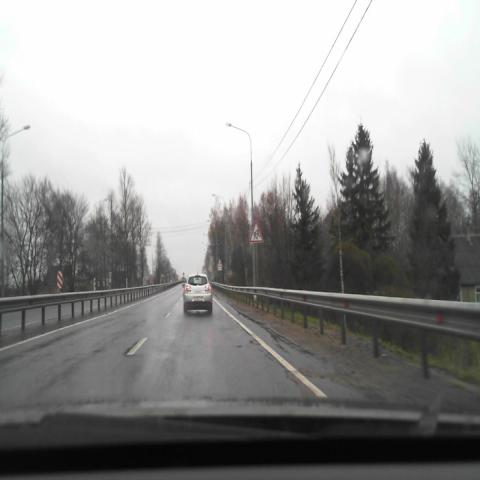1_23: (249, 220, 264, 243)
